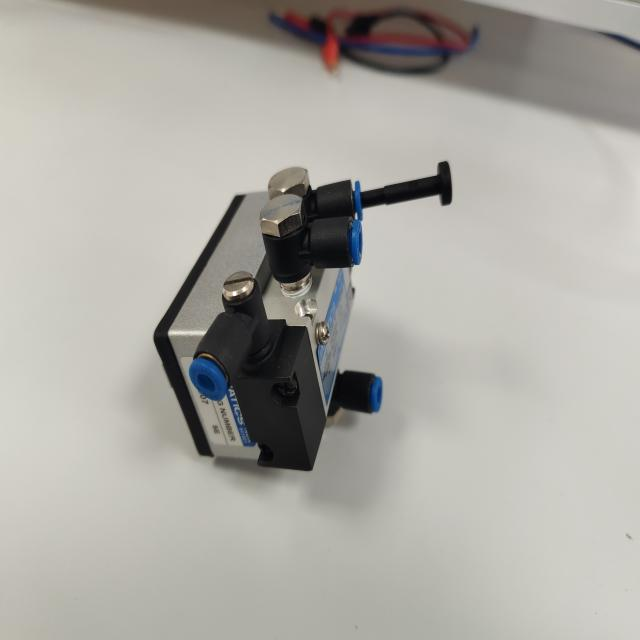5by2 DCV: (148, 153, 464, 484)
